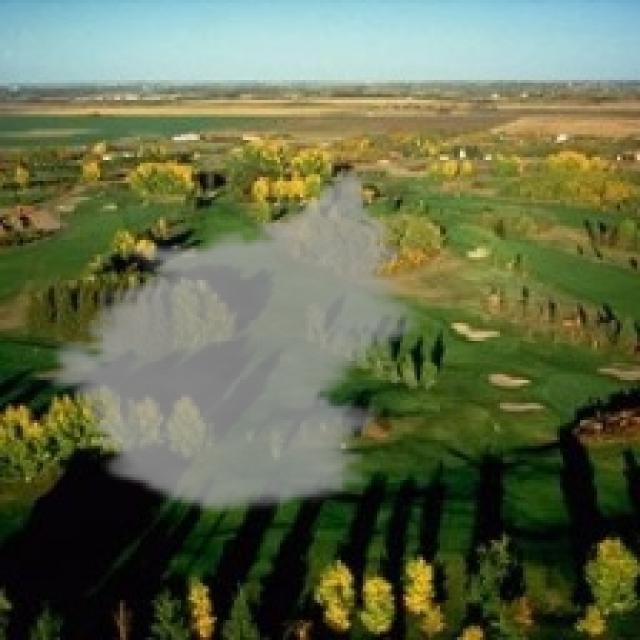Smoke: (39, 168, 432, 518)
